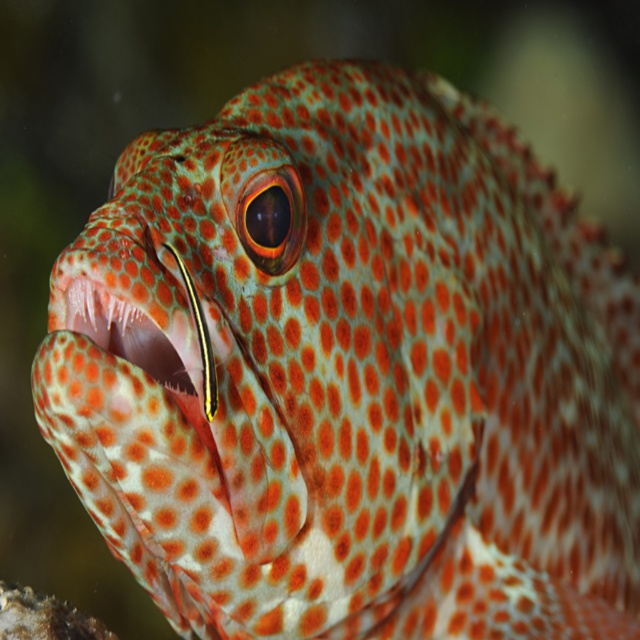Fish: (16, 32, 640, 598)
